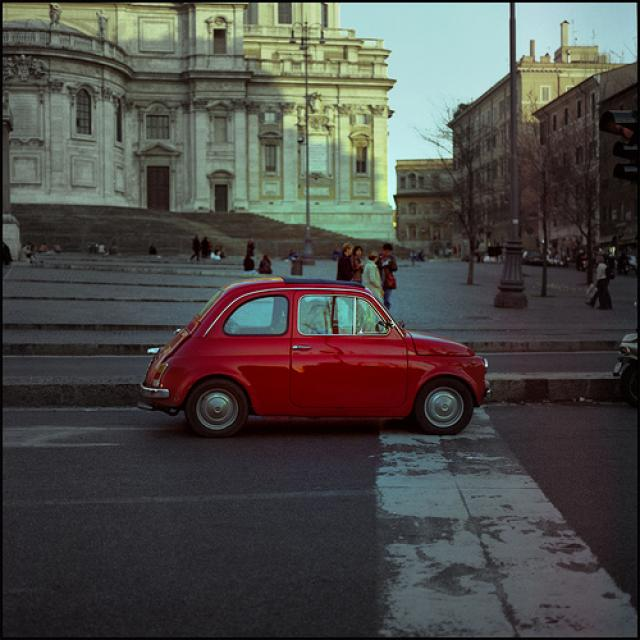Car: (132, 279, 495, 444)
